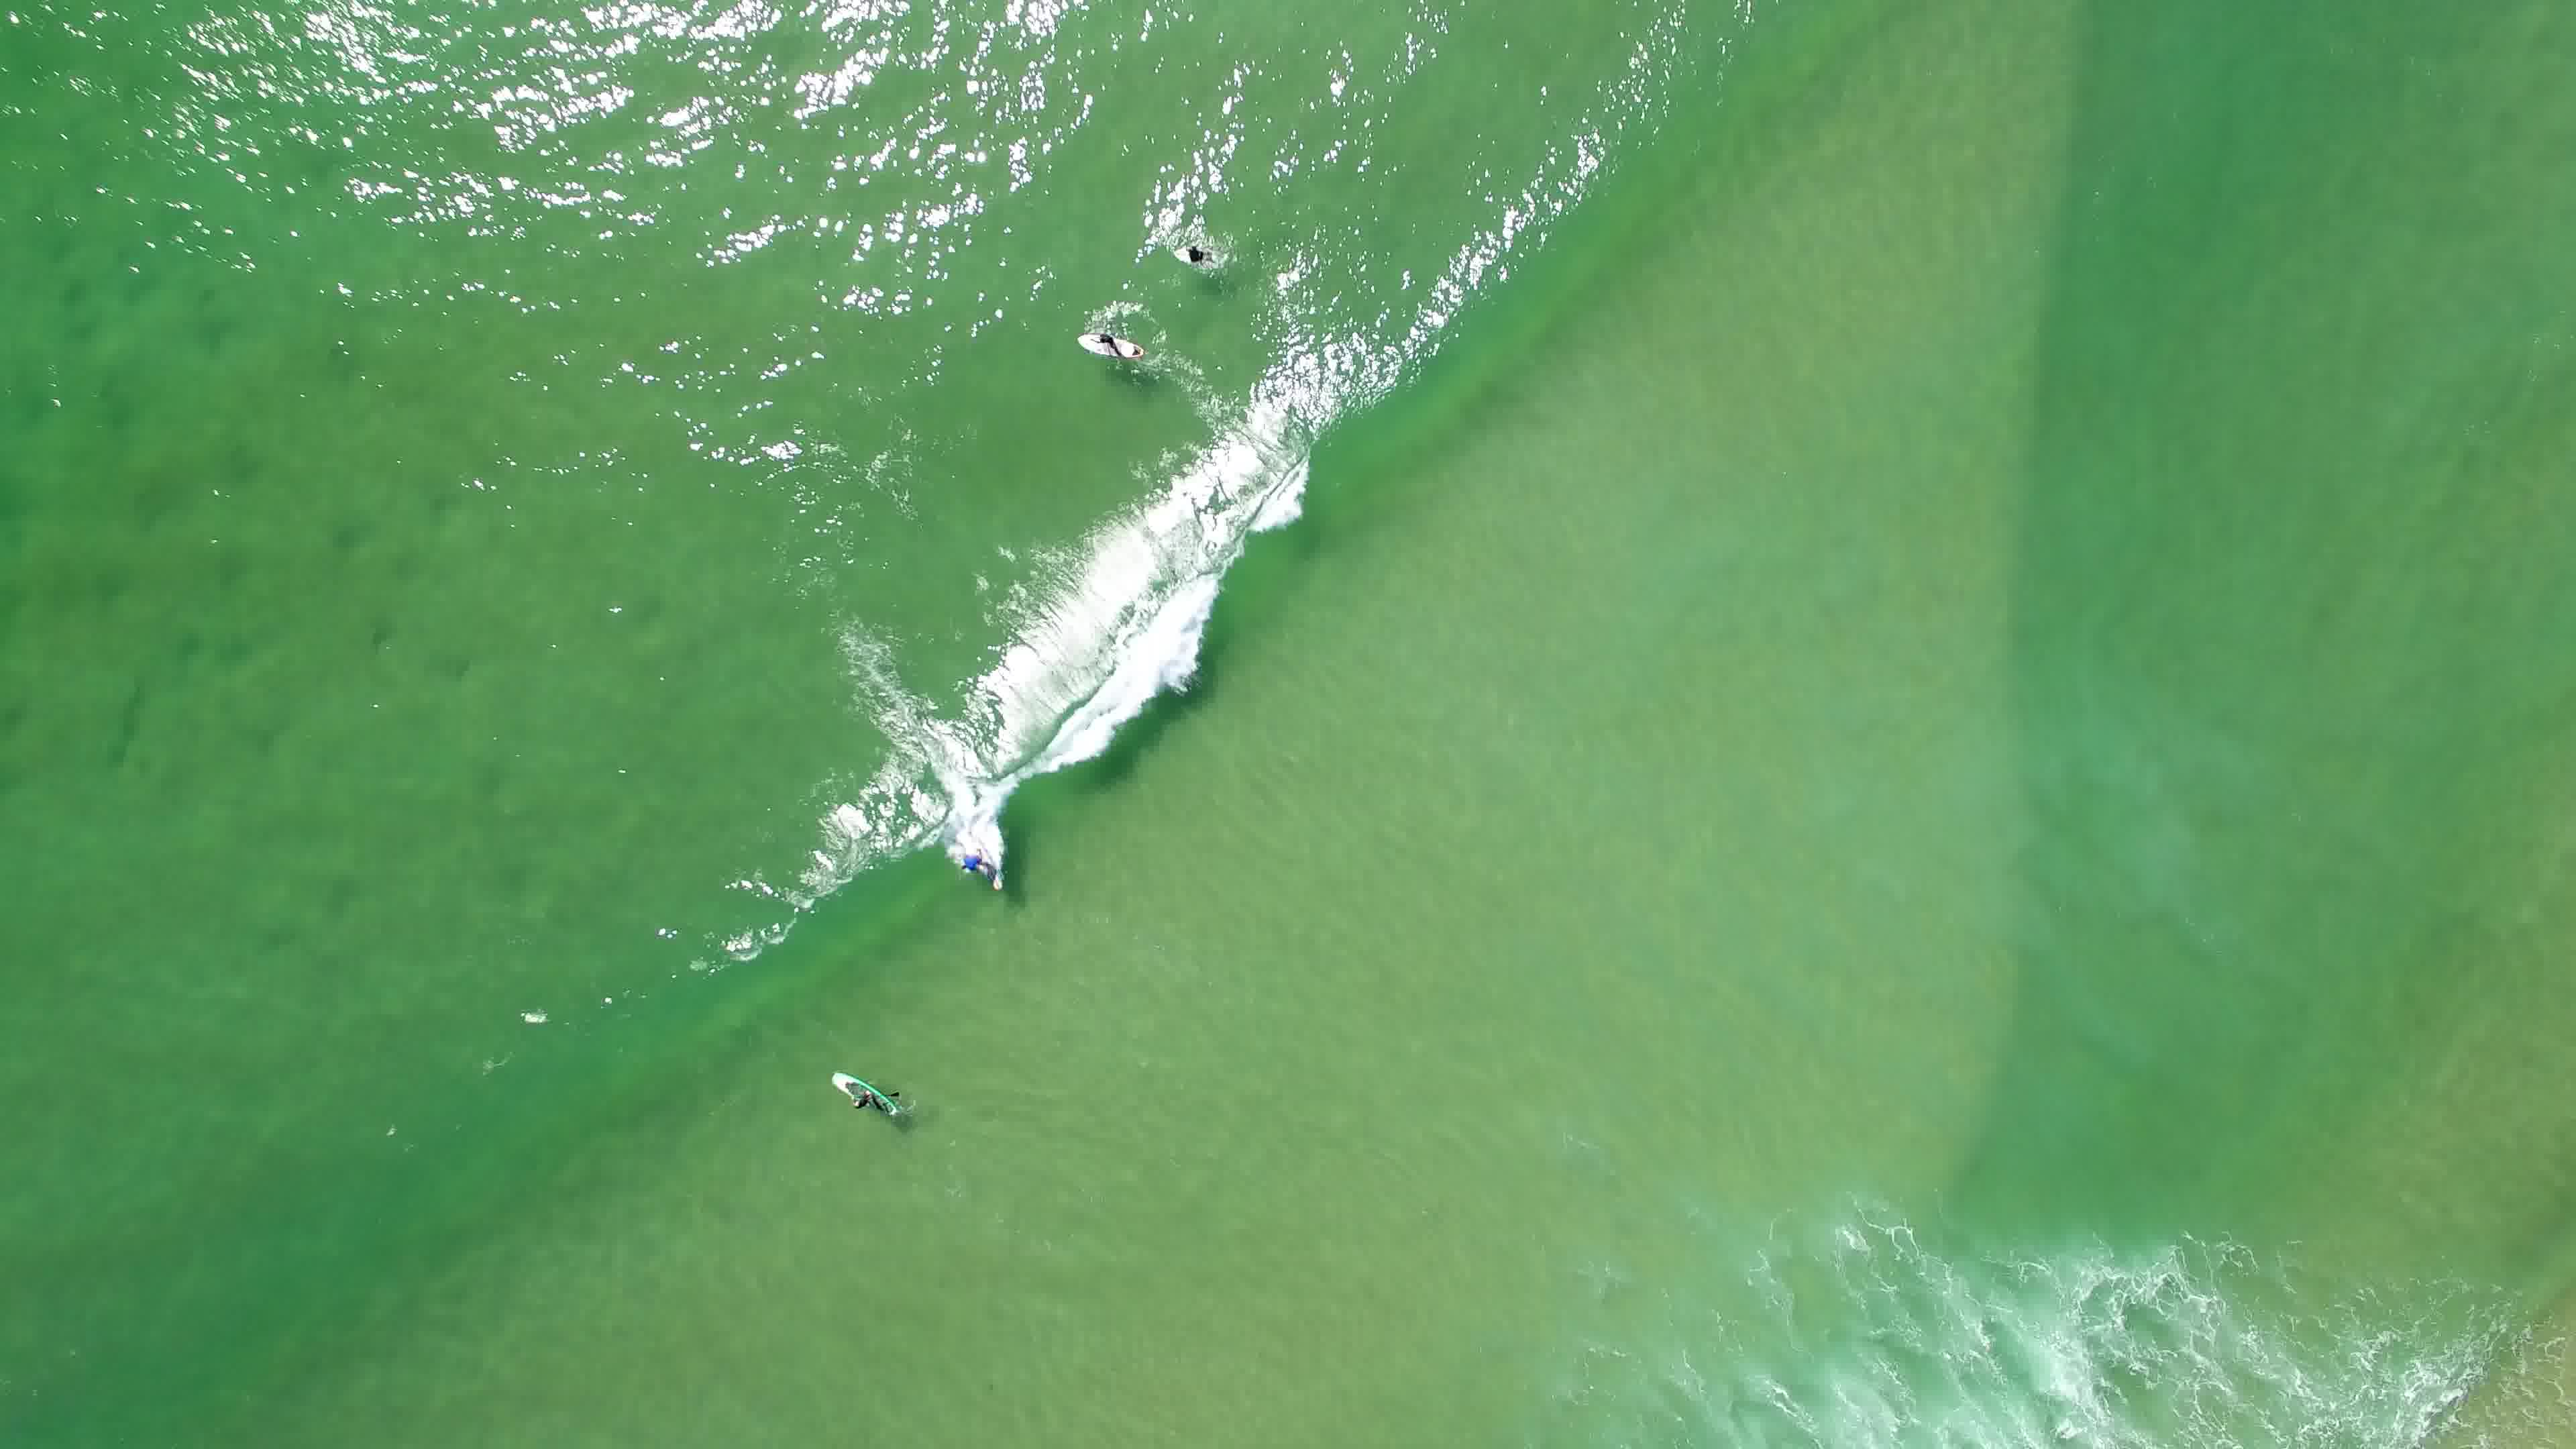surfer: (824, 1067, 916, 1127), (948, 826, 1021, 895), (1159, 225, 1237, 278), (1070, 320, 1157, 364)
